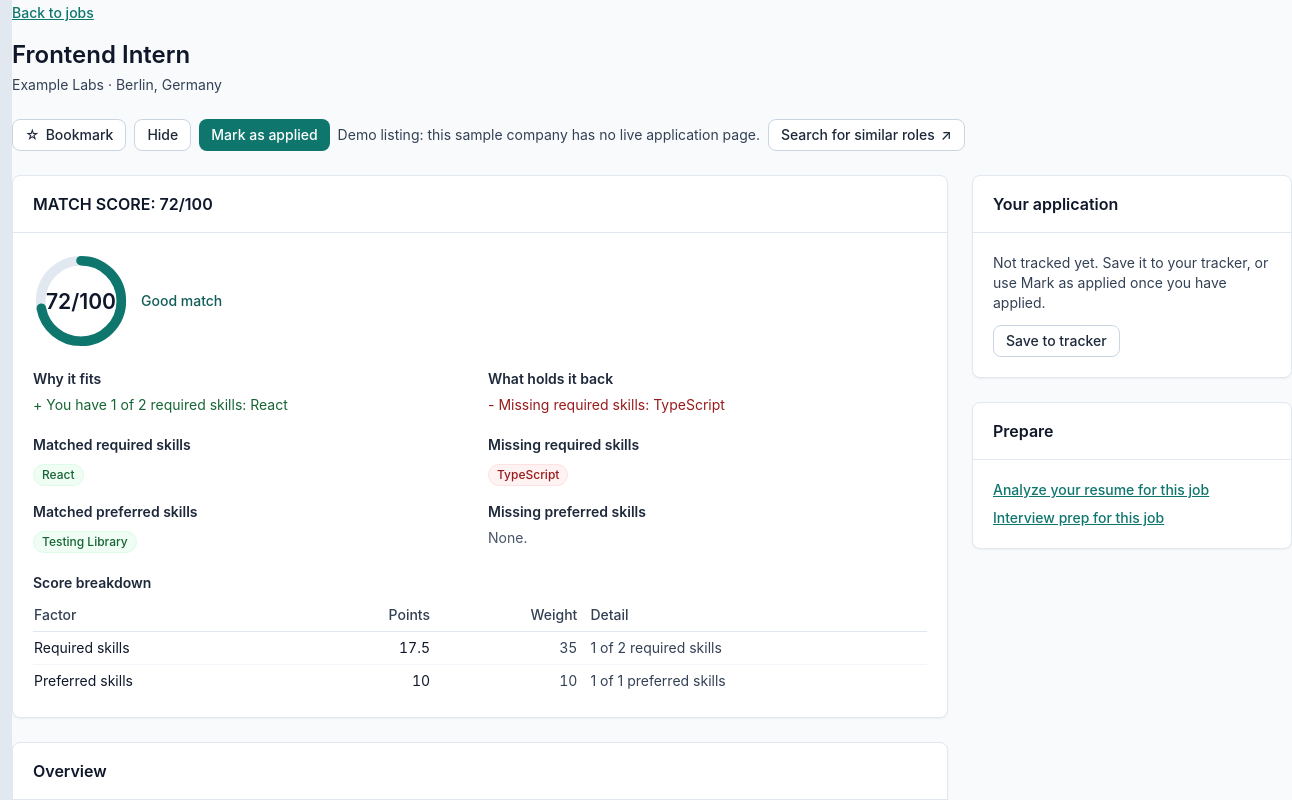
JobDetailPage › shows the envelope message when saving to the tracker returns 409
Click the button "Save to tracker" at (1056, 341), box [993,325,1120,357]
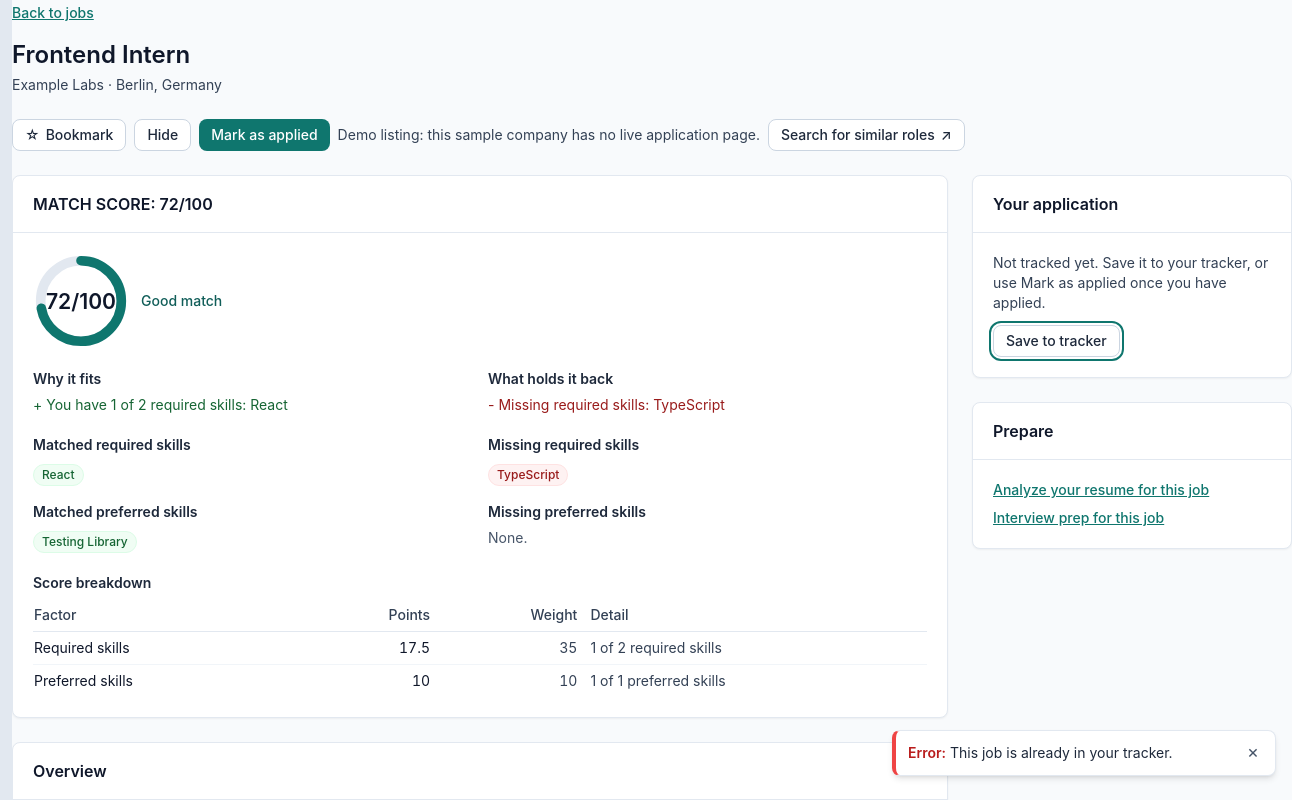
Result: the text "This job is already in your tracker." is shown at [950,744,1173,761]
